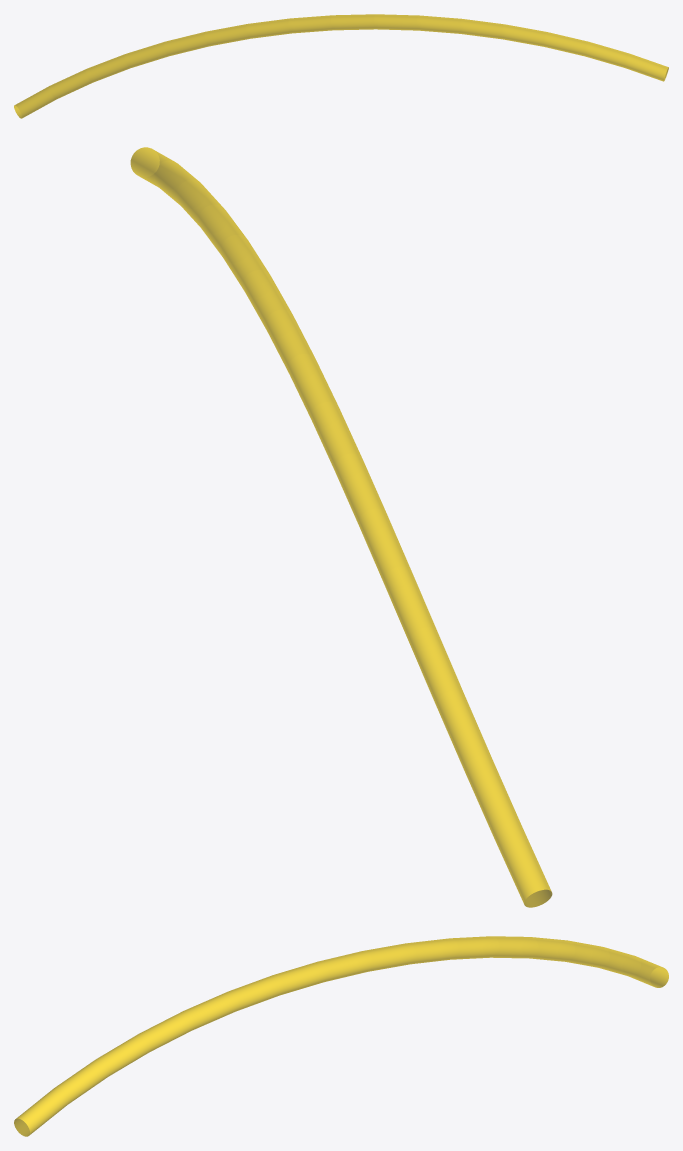
File: Event_100608114_track_96.fbx
3 views of the same model, one above another, from view 1: azimuth 30°, elevation 25°; view 2: azimuth 150°, elevation 25°; view 3: azimuth 270°, elevation 25° (orthographic). The views are drawn at different scales.
Parts seen in each view (by area): view 1: Model; view 2: Model; view 3: Model.
Part boxes in pixels (x1,y1,x2,y2): Model: (14,14,668,118); Model: (130,147,552,907); Model: (14,936,668,1136).
Size of the model in its own units: 1.31 by 0.3988 by 1.22.
